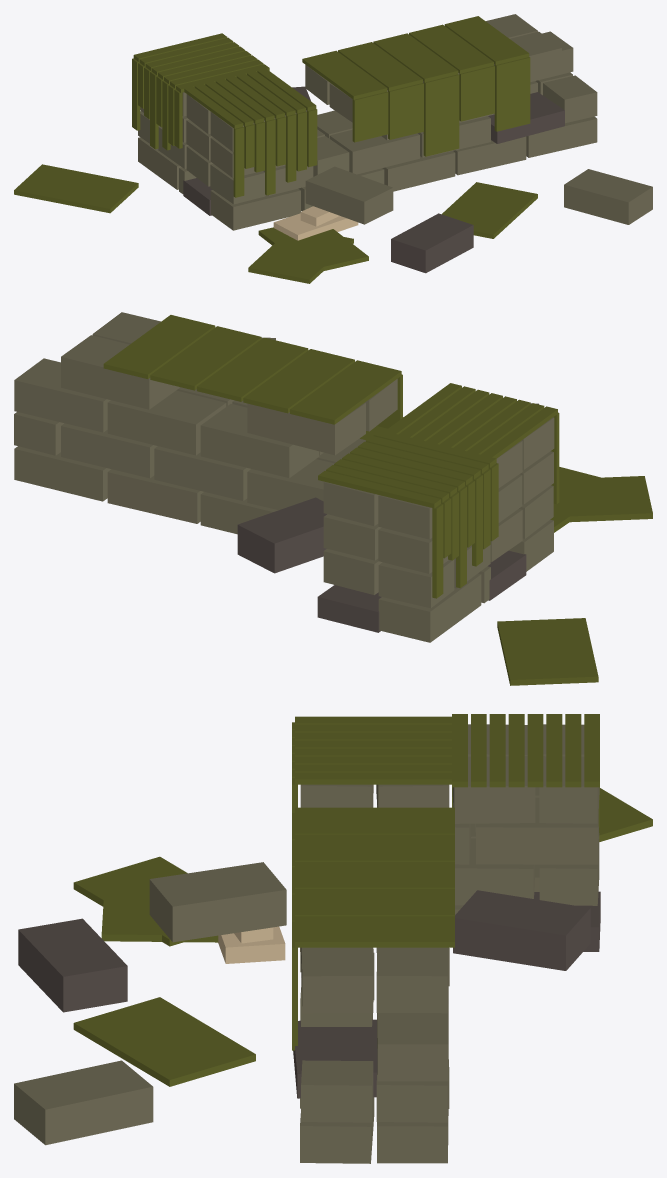
The model's file is SM_SacosRemate_v4_Red_e1_Danado_LOD0.fbx.
The picture shows the model from 3 angles, top to bottom: view 1: azimuth 30°, elevation 25°; view 2: azimuth 150°, elevation 25°; view 3: azimuth 270°, elevation 25°; orthographic projection. The views are drawn at different scales.
Parts seen in each view (by area): view 1: SM_sacos_piezas_v37_LOD0; view 2: SM_sacos_piezas_v37_LOD0; view 3: SM_sacos_piezas_v37_LOD0.
Part boxes in pixels (x1,y1,x2,y2): SM_sacos_piezas_v37_LOD0: (14,14,652,283); SM_sacos_piezas_v37_LOD0: (14,312,652,685); SM_sacos_piezas_v37_LOD0: (14,714,652,1163).
Size of the model in its own units: 5.88 by 1.24 by 4.23.
